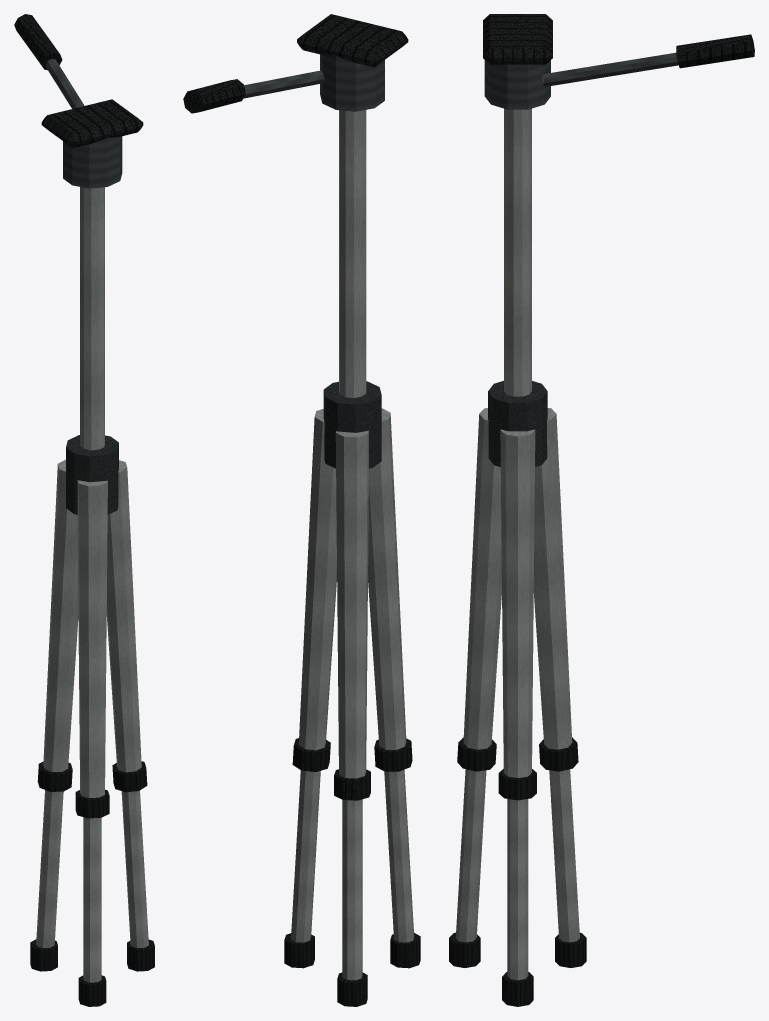
The model's file is blender_tripod_1_folded.glb.
3 views of the same model, side by side, from view 1: azimuth 30°, elevation 25°; view 2: azimuth 150°, elevation 25°; view 3: azimuth 270°, elevation 25° (orthographic). The views are drawn at different scales.
Parts seen in each view (by area): view 1: blender_tripod_1_folded; view 2: blender_tripod_1_folded; view 3: blender_tripod_1_folded.
Part boxes in pixels (box(x1,y1,x2,y2)): blender_tripod_1_folded: box(14, 14, 154, 1006); blender_tripod_1_folded: box(183, 14, 420, 1006); blender_tripod_1_folded: box(449, 14, 754, 1006).
Bounding box in the file's own units: 0.0715 × 0.6062 × 0.1748.
4 materials, 4 textured.
